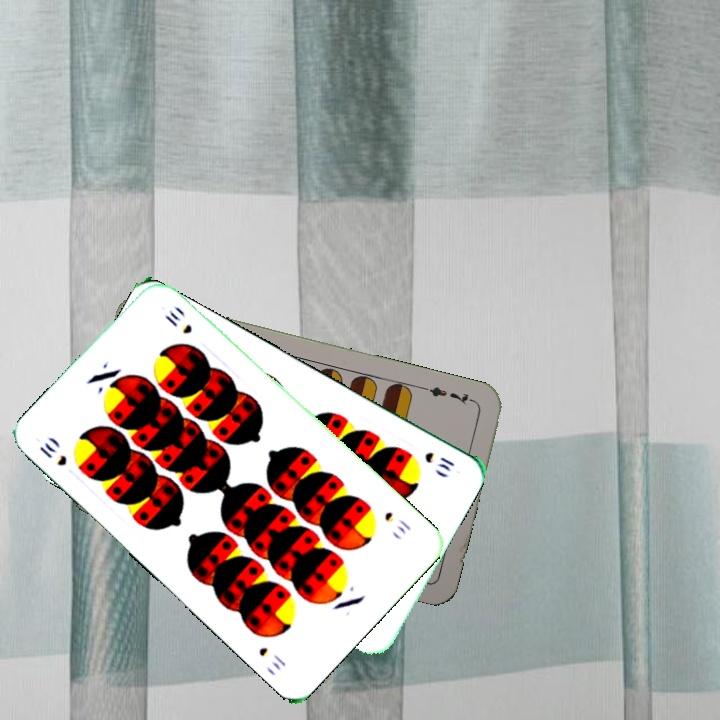E7: (419, 382, 478, 407)
S10: (35, 438, 70, 469), (420, 447, 458, 474), (380, 507, 414, 537)
